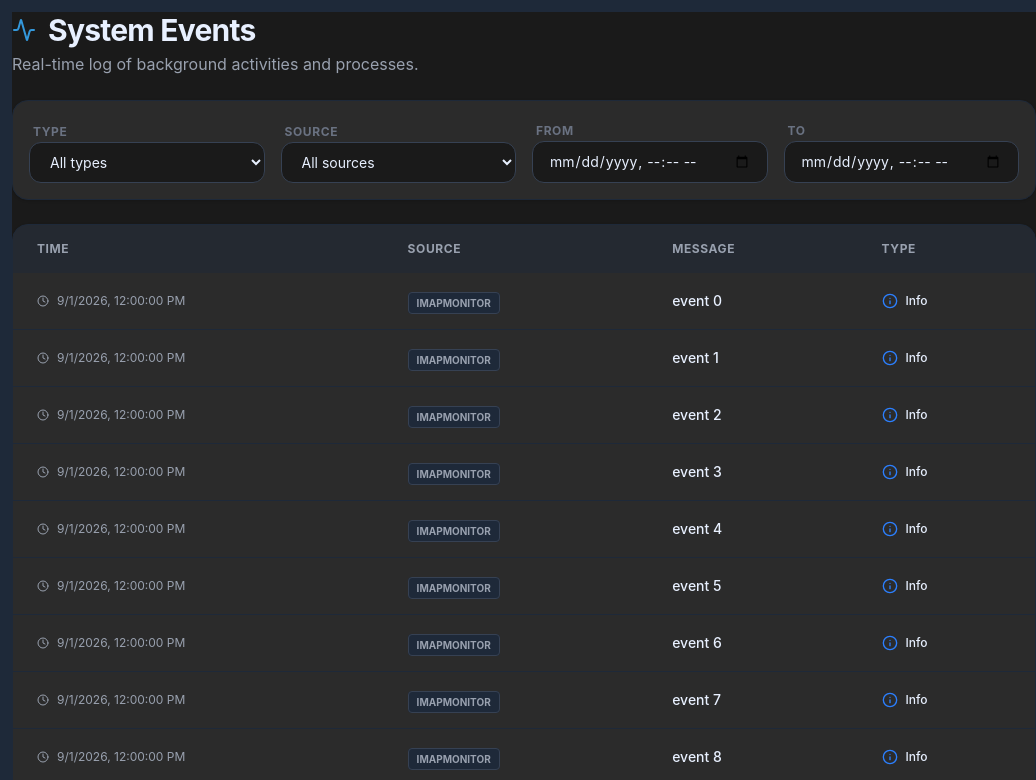
Scenario: Events › does not query with an inverted date range
Type "2026-09-02T00:00" into the field labelled "From" at (650, 162), box top-left (532, 141), bottom-right (768, 183)
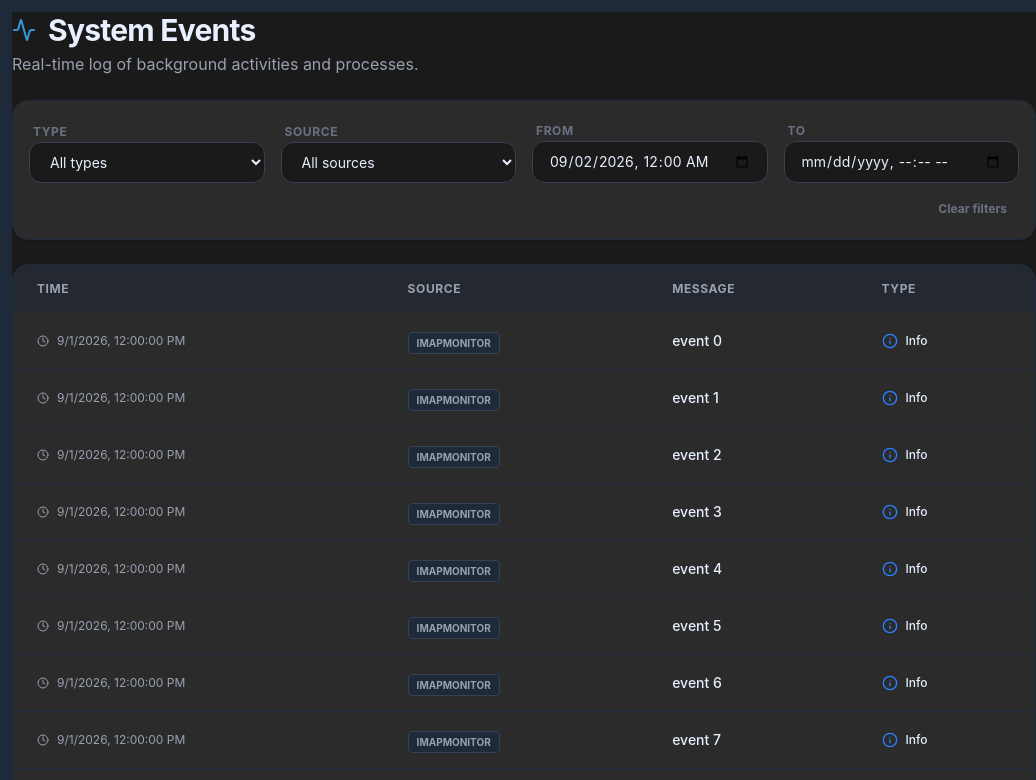
Type "2026-09-01T00:00" into the field labelled "To" at (901, 162), box top-left (784, 141), bottom-right (1019, 183)
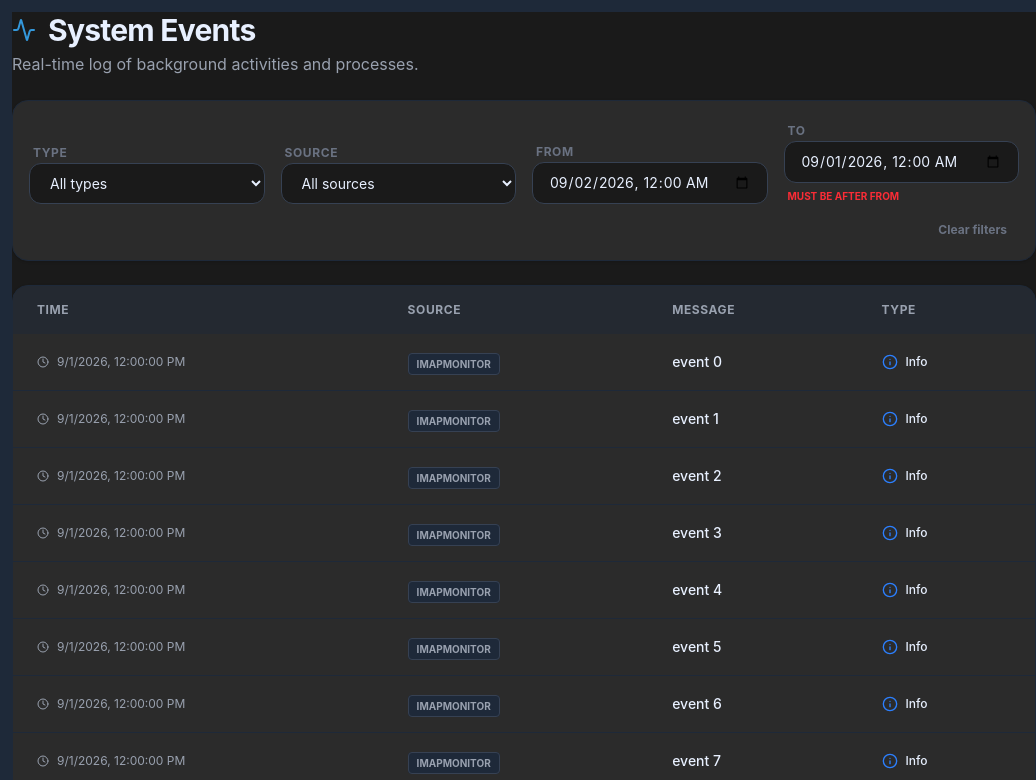
Check: the text "Must be after From" is shown, box top-left (788, 190), bottom-right (899, 202)
